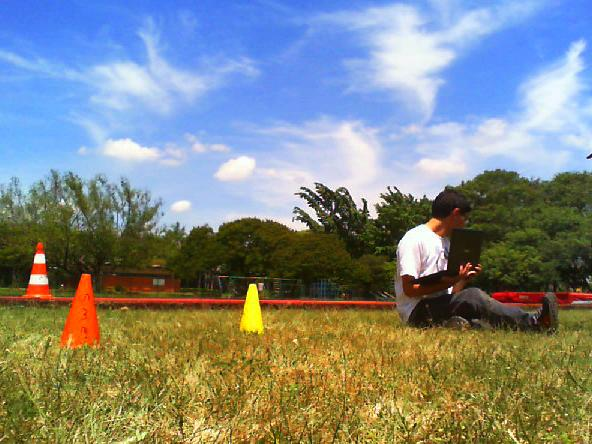0 cone: (60, 274, 103, 348), (22, 242, 52, 299), (240, 284, 264, 333)
